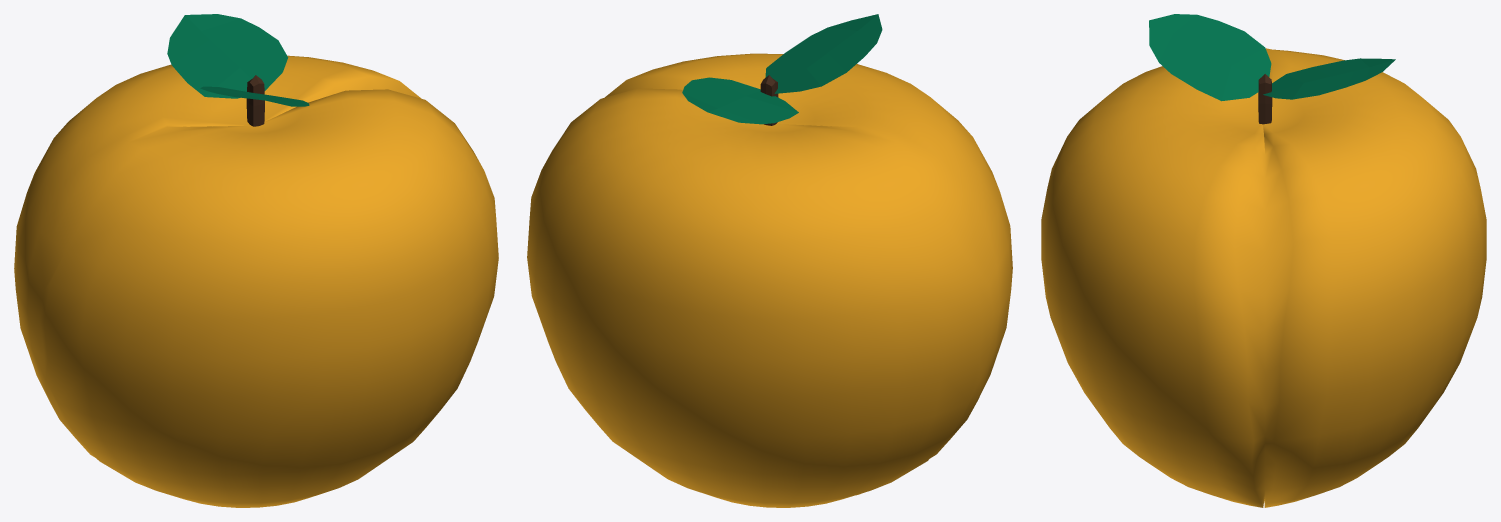
The model's file is peach.fbx.
3 renders of one model, left to right at view 1: azimuth 30°, elevation 25°; view 2: azimuth 150°, elevation 25°; view 3: azimuth 270°, elevation 25°, orthographic.
Parts seen in each view (by area): view 1: Sphere; view 2: Sphere; view 3: Sphere.
Boxes of the visible parts, left/top/right/bottom form: Sphere: left=14, top=14, right=498, bottom=507; Sphere: left=527, top=14, right=1012, bottom=507; Sphere: left=1041, top=14, right=1486, bottom=507.
Bounding box in the file's own units: 196 × 182 × 174.
